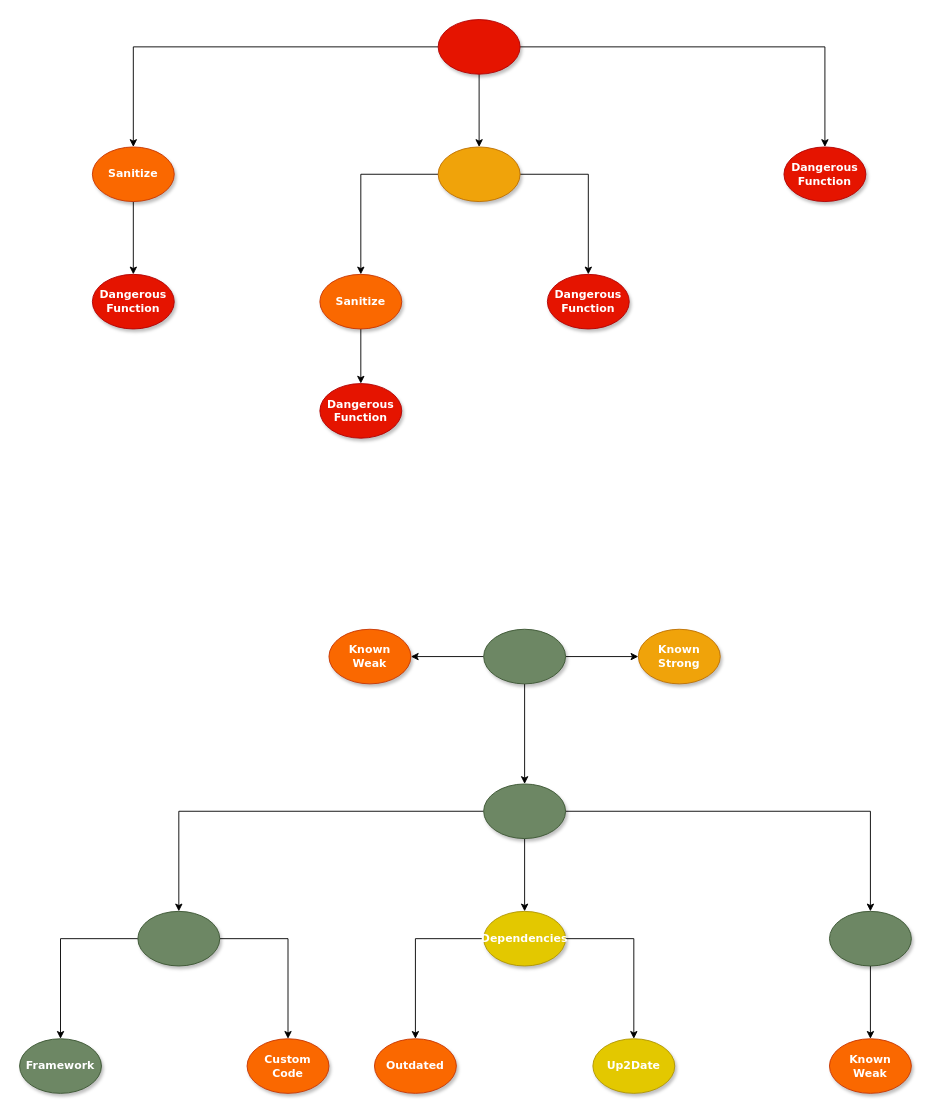
Some shapes in this 933 by 1116 pixel diagram are drawn without their labels. Each missing label, with the centre of its shape:
Code Details: the point at 179,939
Configuration: the point at 871,939
Gateway Function: the point at 480,175
Main Application: the point at 525,812
Technology: the point at 525,657
Untrusted Input: the point at 480,48
